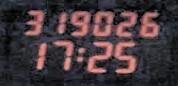0: (91, 11, 112, 36)
1: (34, 41, 45, 69), (55, 12, 66, 33)
2: (86, 41, 111, 72), (114, 11, 135, 36)
3: (23, 9, 42, 35)
5: (111, 41, 135, 73)
6: (138, 12, 159, 36)
7: (52, 40, 72, 69)
9: (69, 11, 89, 35)
X: (75, 46, 84, 61)
